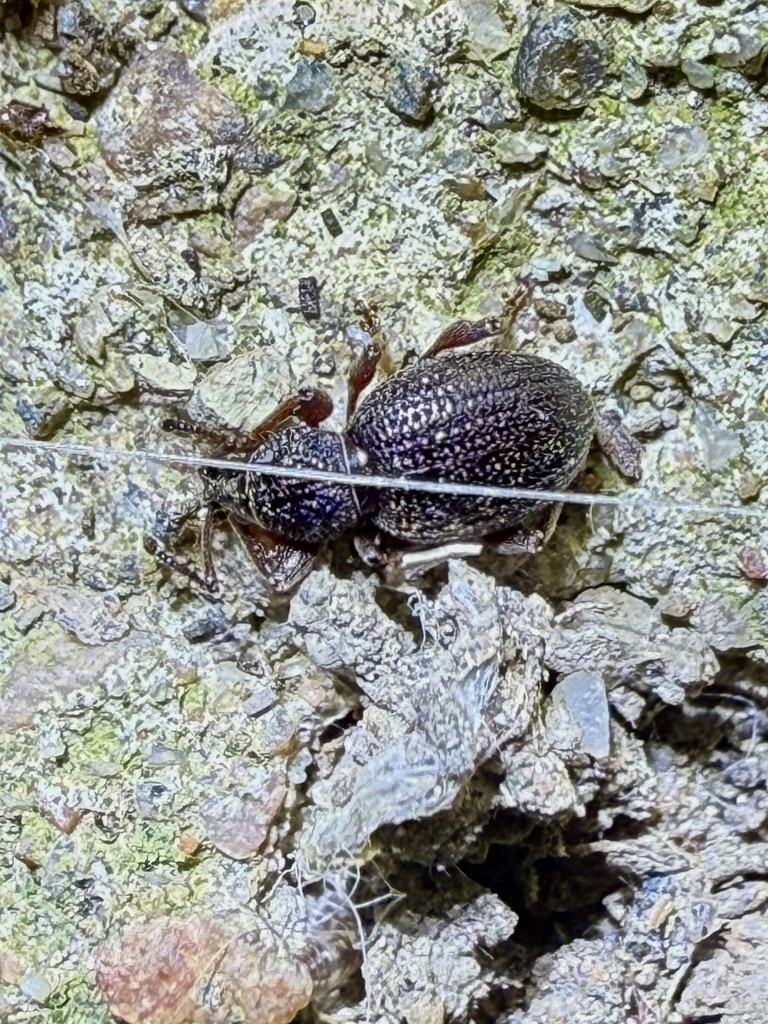weevils: (17, 214, 755, 725)
